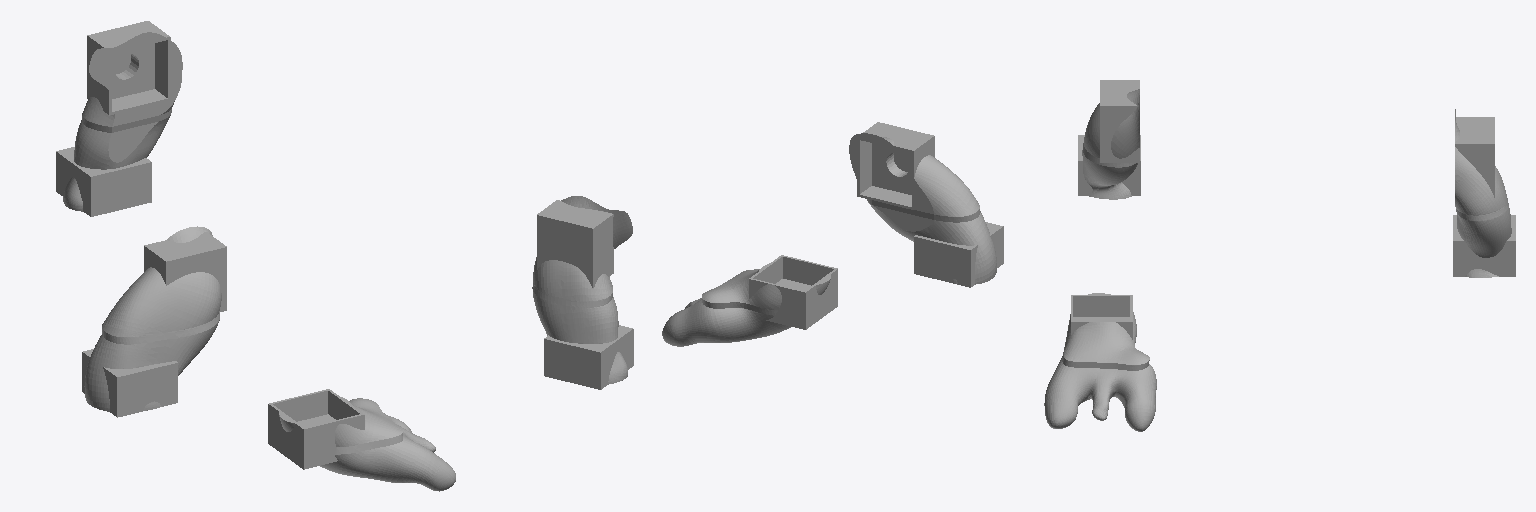
robot.urdf — FrogBot4_top-FrogBot4-x-1_bottom-FrogBot4-x-1:
<?xml version="1.0" ?>
<robot name="FrogBot4_top-FrogBot4-x-1_bottom-FrogBot4-x-1">

<material name="pla_5_percent_infill">
  <color rgba="0.700 0.700 0.700 1.000"/>
</material>

<link name="base_link">
  <inertial>
    <origin xyz="0 0 0" rpy="0 0 0"/>
    <mass value="1.4608203761339813"/>
    <inertia ixx="0.00496034401110324" iyy="0.010259632804669863" izz="0.010457868746855814" ixy="4.519338143051983e-05" iyz="5.808312742508133e-05" ixz="-0.001193761897574285"/>
  </inertial>
  <visual>
    <origin xyz="0 0 0" rpy="0 0 0"/>
    <geometry>
      <mesh filename="simple_meshes/base_link.stl" scale="0.001 0.001 0.001"/>
    </geometry>
    <material name="pla_5_percent_infill"/>
  </visual>
  <collision>
    <origin xyz="0 0 0" rpy="0 0 0"/>
    <geometry>
      <mesh filename="simple_meshes/base_link.stl" scale="0.001 0.001 0.001"/>
    </geometry>
  </collision>
</link>

<link name="body_1_0_1">
  <inertial>
    <origin xyz="-0.039935 -0.102508 -0.020563" rpy="0 0 0"/>
    <mass value="0.06313492369456997"/>
    <inertia ixx="5.843325428574143e-05" iyy="7.04835361188316e-05" izz="2.8563724284362416e-05" ixy="8.239008404329587e-07" iyz="1.7999714321806554e-06" ixz="-1.0703921743233354e-05"/>
  </inertial>
  <visual>
    <origin xyz="-0.039935 -0.102508 -0.020563" rpy="0 0 0"/>
    <geometry>
      <mesh filename="simple_meshes/body_1_0_1.stl" scale="0.001 0.001 0.001"/>
    </geometry>
    <material name="pla_5_percent_infill"/>
  </visual>
  <collision>
    <origin xyz="-0.039935 -0.102508 -0.020563" rpy="0 0 0"/>
    <geometry>
      <mesh filename="simple_meshes/body_1_0_1.stl" scale="0.001 0.001 0.001"/>
    </geometry>
  </collision>
</link>

<link name="body_1_1_1">
  <inertial>
    <origin xyz="0.084829 -0.102508 0.010182" rpy="0 0 0"/>
    <mass value="0.06673737677147111"/>
    <inertia ixx="3.983383224579178e-05" iyy="7.526511997601928e-05" izz="5.270763807124594e-05" ixy="-1.2538064368516465e-06" iyz="1.1250889303848798e-06" ixz="-1.828701279363404e-05"/>
  </inertial>
  <visual>
    <origin xyz="0.084829 -0.102508 0.010182" rpy="0 0 0"/>
    <geometry>
      <mesh filename="simple_meshes/body_1_1_1.stl" scale="0.001 0.001 0.001"/>
    </geometry>
    <material name="pla_5_percent_infill"/>
  </visual>
  <collision>
    <origin xyz="0.084829 -0.102508 0.010182" rpy="0 0 0"/>
    <geometry>
      <mesh filename="simple_meshes/body_1_1_1.stl" scale="0.001 0.001 0.001"/>
    </geometry>
  </collision>
</link>

<link name="body_1_2_1">
  <inertial>
    <origin xyz="-0.032973 0.102508 -0.03352" rpy="0 0 0"/>
    <mass value="0.06955426381283918"/>
    <inertia ixx="7.500047955113771e-05" iyy="8.648441072695885e-05" izz="3.210062370877058e-05" ixy="-2.199899373185935e-06" iyz="-8.821046103620829e-06" ixz="-9.195537521228036e-06"/>
  </inertial>
  <visual>
    <origin xyz="-0.032973 0.102508 -0.03352" rpy="0 0 0"/>
    <geometry>
      <mesh filename="simple_meshes/body_1_2_1.stl" scale="0.001 0.001 0.001"/>
    </geometry>
    <material name="pla_5_percent_infill"/>
  </visual>
  <collision>
    <origin xyz="-0.032973 0.102508 -0.03352" rpy="0 0 0"/>
    <geometry>
      <mesh filename="simple_meshes/body_1_2_1.stl" scale="0.001 0.001 0.001"/>
    </geometry>
  </collision>
</link>

<link name="body_1_3_1">
  <inertial>
    <origin xyz="0.075405 0.102508 -0.000907" rpy="0 0 0"/>
    <mass value="0.07198462885448909"/>
    <inertia ixx="4.4425021382359054e-05" iyy="8.068727495059937e-05" izz="5.518924378403352e-05" ixy="4.2159472883845743e-07" iyz="-1.1244787044685056e-06" ixz="-1.861083687009483e-05"/>
  </inertial>
  <visual>
    <origin xyz="0.075405 0.102508 -0.000907" rpy="0 0 0"/>
    <geometry>
      <mesh filename="simple_meshes/body_1_3_1.stl" scale="0.001 0.001 0.001"/>
    </geometry>
    <material name="pla_5_percent_infill"/>
  </visual>
  <collision>
    <origin xyz="0.075405 0.102508 -0.000907" rpy="0 0 0"/>
    <geometry>
      <mesh filename="simple_meshes/body_1_3_1.stl" scale="0.001 0.001 0.001"/>
    </geometry>
  </collision>
</link>

<link name="body_2_0_1">
  <inertial>
    <origin xyz="-0.025656 -0.145015 0.090436" rpy="0 0 0"/>
    <mass value="0.06594764042116746"/>
    <inertia ixx="3.854212829119746e-05" iyy="5.867800589861921e-05" izz="7.538996514267274e-05" ixy="-8.648428678402443e-07" iyz="4.19097294451342e-07" ixz="1.3237917248230965e-05"/>
  </inertial>
  <visual>
    <origin xyz="-0.025656 -0.145015 0.090436" rpy="0 0 0"/>
    <geometry>
      <mesh filename="simple_meshes/body_2_0_1.stl" scale="0.001 0.001 0.001"/>
    </geometry>
    <material name="pla_5_percent_infill"/>
  </visual>
  <collision>
    <origin xyz="-0.025656 -0.145015 0.090436" rpy="0 0 0"/>
    <geometry>
      <mesh filename="simple_meshes/body_2_0_1.stl" scale="0.001 0.001 0.001"/>
    </geometry>
  </collision>
</link>

<link name="body_2_1_1">
  <inertial>
    <origin xyz="0.114857 -0.145661 0.090438" rpy="0 0 0"/>
    <mass value="0.058043657931819856"/>
    <inertia ixx="2.523367734305615e-05" iyy="5.4249261467249465e-05" izz="5.5471699931439926e-05" ixy="-4.9333440549038585e-06" iyz="3.213482911364283e-06" ixz="1.4245181836913118e-05"/>
  </inertial>
  <visual>
    <origin xyz="0.114857 -0.145661 0.090438" rpy="0 0 0"/>
    <geometry>
      <mesh filename="simple_meshes/body_2_1_1.stl" scale="0.001 0.001 0.001"/>
    </geometry>
    <material name="pla_5_percent_infill"/>
  </visual>
  <collision>
    <origin xyz="0.114857 -0.145661 0.090438" rpy="0 0 0"/>
    <geometry>
      <mesh filename="simple_meshes/body_2_1_1.stl" scale="0.001 0.001 0.001"/>
    </geometry>
  </collision>
</link>

<link name="body_2_2_1">
  <inertial>
    <origin xyz="-0.022601 0.152053 0.090436" rpy="0 0 0"/>
    <mass value="0.0726155890100858"/>
    <inertia ixx="4.226231214159116e-05" iyy="6.230914563100376e-05" izz="8.051978925855286e-05" ixy="-1.616787801618719e-06" iyz="-1.3173557591181564e-07" ixz="1.4054700895365507e-05"/>
  </inertial>
  <visual>
    <origin xyz="-0.022601 0.152053 0.090436" rpy="0 0 0"/>
    <geometry>
      <mesh filename="simple_meshes/body_2_2_1.stl" scale="0.001 0.001 0.001"/>
    </geometry>
    <material name="pla_5_percent_infill"/>
  </visual>
  <collision>
    <origin xyz="-0.022601 0.152053 0.090436" rpy="0 0 0"/>
    <geometry>
      <mesh filename="simple_meshes/body_2_2_1.stl" scale="0.001 0.001 0.001"/>
    </geometry>
  </collision>
</link>

<link name="body_2_3_1">
  <inertial>
    <origin xyz="0.12145 0.146005 0.090436" rpy="0 0 0"/>
    <mass value="0.05640821954295647"/>
    <inertia ixx="3.344273138606484e-05" iyy="4.363898696860009e-05" izz="5.75641247310629e-05" ixy="7.4872157144842844e-06" iyz="-5.587502073621867e-06" ixz="9.579623937786756e-06"/>
  </inertial>
  <visual>
    <origin xyz="0.12145 0.146005 0.090436" rpy="0 0 0"/>
    <geometry>
      <mesh filename="simple_meshes/body_2_3_1.stl" scale="0.001 0.001 0.001"/>
    </geometry>
    <material name="pla_5_percent_infill"/>
  </visual>
  <collision>
    <origin xyz="0.12145 0.146005 0.090436" rpy="0 0 0"/>
    <geometry>
      <mesh filename="simple_meshes/body_2_3_1.stl" scale="0.001 0.001 0.001"/>
    </geometry>
  </collision>
</link>

<joint name="joint_1_0" type="revolute">
  <origin xyz="0.039935 0.102508 0.020563" rpy="0 0 0"/>
  <parent link="base_link"/>
  <child link="body_1_0_1"/>
  <axis xyz="1.0 0.0 0.0"/>
  <limit upper="1.2" lower="-1.2" effort="3.8" velocity="5.4"/>
</joint>
<transmission name="joint_1_0_tran">
  <type>transmission_interface/SimpleTransmission</type>
  <joint name="joint_1_0">
    <hardwareInterface>PositionJointInterface</hardwareInterface>
  </joint>
  <actuator name="joint_1_0_actr">
    <hardwareInterface>PositionJointInterface</hardwareInterface>
    <mechanicalReduction>1</mechanicalReduction>
  </actuator>
</transmission>

<joint name="joint_1_1" type="revolute">
  <origin xyz="-0.084829 0.102508 -0.010182" rpy="0 0 0"/>
  <parent link="base_link"/>
  <child link="body_1_1_1"/>
  <axis xyz="1.0 0.0 0.0"/>
  <limit upper="1.2" lower="-1.2" effort="3.8" velocity="5.4"/>
</joint>
<transmission name="joint_1_1_tran">
  <type>transmission_interface/SimpleTransmission</type>
  <joint name="joint_1_1">
    <hardwareInterface>PositionJointInterface</hardwareInterface>
  </joint>
  <actuator name="joint_1_1_actr">
    <hardwareInterface>PositionJointInterface</hardwareInterface>
    <mechanicalReduction>1</mechanicalReduction>
  </actuator>
</transmission>

<joint name="joint_1_2" type="revolute">
  <origin xyz="0.032973 -0.102508 0.03352" rpy="0 0 0"/>
  <parent link="base_link"/>
  <child link="body_1_2_1"/>
  <axis xyz="1.0 0.0 0.0"/>
  <limit upper="1.2" lower="-1.2" effort="3.8" velocity="5.4"/>
</joint>
<transmission name="joint_1_2_tran">
  <type>transmission_interface/SimpleTransmission</type>
  <joint name="joint_1_2">
    <hardwareInterface>PositionJointInterface</hardwareInterface>
  </joint>
  <actuator name="joint_1_2_actr">
    <hardwareInterface>PositionJointInterface</hardwareInterface>
    <mechanicalReduction>1</mechanicalReduction>
  </actuator>
</transmission>

<joint name="joint_1_3" type="revolute">
  <origin xyz="-0.075405 -0.102508 0.000907" rpy="0 0 0"/>
  <parent link="base_link"/>
  <child link="body_1_3_1"/>
  <axis xyz="1.0 0.0 0.0"/>
  <limit upper="1.2" lower="-1.2" effort="3.8" velocity="5.4"/>
</joint>
<transmission name="joint_1_3_tran">
  <type>transmission_interface/SimpleTransmission</type>
  <joint name="joint_1_3">
    <hardwareInterface>PositionJointInterface</hardwareInterface>
  </joint>
  <actuator name="joint_1_3_actr">
    <hardwareInterface>PositionJointInterface</hardwareInterface>
    <mechanicalReduction>1</mechanicalReduction>
  </actuator>
</transmission>

<joint name="joint_2_0" type="revolute">
  <origin xyz="-0.014279 0.042507 -0.110999" rpy="0 0 0"/>
  <parent link="body_1_0_1"/>
  <child link="body_2_0_1"/>
  <axis xyz="1.0 0.0 0.0"/>
  <limit upper="1.2" lower="-1.2" effort="3.8" velocity="5.4"/>
</joint>
<transmission name="joint_2_0_tran">
  <type>transmission_interface/SimpleTransmission</type>
  <joint name="joint_2_0">
    <hardwareInterface>PositionJointInterface</hardwareInterface>
  </joint>
  <actuator name="joint_2_0_actr">
    <hardwareInterface>PositionJointInterface</hardwareInterface>
    <mechanicalReduction>1</mechanicalReduction>
  </actuator>
</transmission>

<joint name="joint_2_1" type="revolute">
  <origin xyz="-0.030028 0.043153 -0.080256" rpy="0 0 0"/>
  <parent link="body_1_1_1"/>
  <child link="body_2_1_1"/>
  <axis xyz="1.0 0.0 0.0"/>
  <limit upper="1.2" lower="-1.2" effort="3.8" velocity="5.4"/>
</joint>
<transmission name="joint_2_1_tran">
  <type>transmission_interface/SimpleTransmission</type>
  <joint name="joint_2_1">
    <hardwareInterface>PositionJointInterface</hardwareInterface>
  </joint>
  <actuator name="joint_2_1_actr">
    <hardwareInterface>PositionJointInterface</hardwareInterface>
    <mechanicalReduction>1</mechanicalReduction>
  </actuator>
</transmission>

<joint name="joint_2_2" type="revolute">
  <origin xyz="-0.010372 -0.049545 -0.123956" rpy="0 0 0"/>
  <parent link="body_1_2_1"/>
  <child link="body_2_2_1"/>
  <axis xyz="1.0 0.0 0.0"/>
  <limit upper="1.2" lower="-1.2" effort="3.8" velocity="5.4"/>
</joint>
<transmission name="joint_2_2_tran">
  <type>transmission_interface/SimpleTransmission</type>
  <joint name="joint_2_2">
    <hardwareInterface>PositionJointInterface</hardwareInterface>
  </joint>
  <actuator name="joint_2_2_actr">
    <hardwareInterface>PositionJointInterface</hardwareInterface>
    <mechanicalReduction>1</mechanicalReduction>
  </actuator>
</transmission>

<joint name="joint_2_3" type="revolute">
  <origin xyz="-0.046045 -0.043497 -0.091343" rpy="0 0 0"/>
  <parent link="body_1_3_1"/>
  <child link="body_2_3_1"/>
  <axis xyz="1.0 0.0 0.0"/>
  <limit upper="1.2" lower="-1.2" effort="3.8" velocity="5.4"/>
</joint>
<transmission name="joint_2_3_tran">
  <type>transmission_interface/SimpleTransmission</type>
  <joint name="joint_2_3">
    <hardwareInterface>PositionJointInterface</hardwareInterface>
  </joint>
  <actuator name="joint_2_3_actr">
    <hardwareInterface>PositionJointInterface</hardwareInterface>
    <mechanicalReduction>1</mechanicalReduction>
  </actuator>
</transmission>

</robot>

--- Render facts (derived) ---
3 views of the same robot in one strip: view 1: azimuth 30°, elevation 25°; view 2: azimuth 150°, elevation 25°; view 3: azimuth 270°, elevation 25° (orthographic).
Model FrogBot4_top-FrogBot4-x-1_bottom-FrogBot4-x-1 with 9 links and 8 joints (8 revolute), rooted at base_link, posed every joint at zero.
Visible links, largest first — view 1: body_1_3_1, body_1_0_1, body_2_2_1; view 2: body_1_0_1, body_1_3_1, body_2_2_1; view 3: body_2_2_1, body_1_0_1, body_1_3_1.
Link boxes in pixels (x1,y1,x2,y2): body_1_3_1: (82,226,226,417); body_1_0_1: (56,21,182,216); body_2_2_1: (268,389,455,491); body_1_0_1: (532,196,633,389); body_1_3_1: (849,122,1003,287); body_2_2_1: (662,255,837,346); body_2_2_1: (1044,293,1156,431); body_1_0_1: (1453,109,1515,277); body_1_3_1: (1078,80,1140,199).
Size in the robot's own frame: 0.269 by 0.3657 by 0.2344 metres.
Meshes: 9 distinct files referenced, 3 mesh visuals loaded (3 binary STL); not drawn: 6 (reference not matched to a file when rendering).